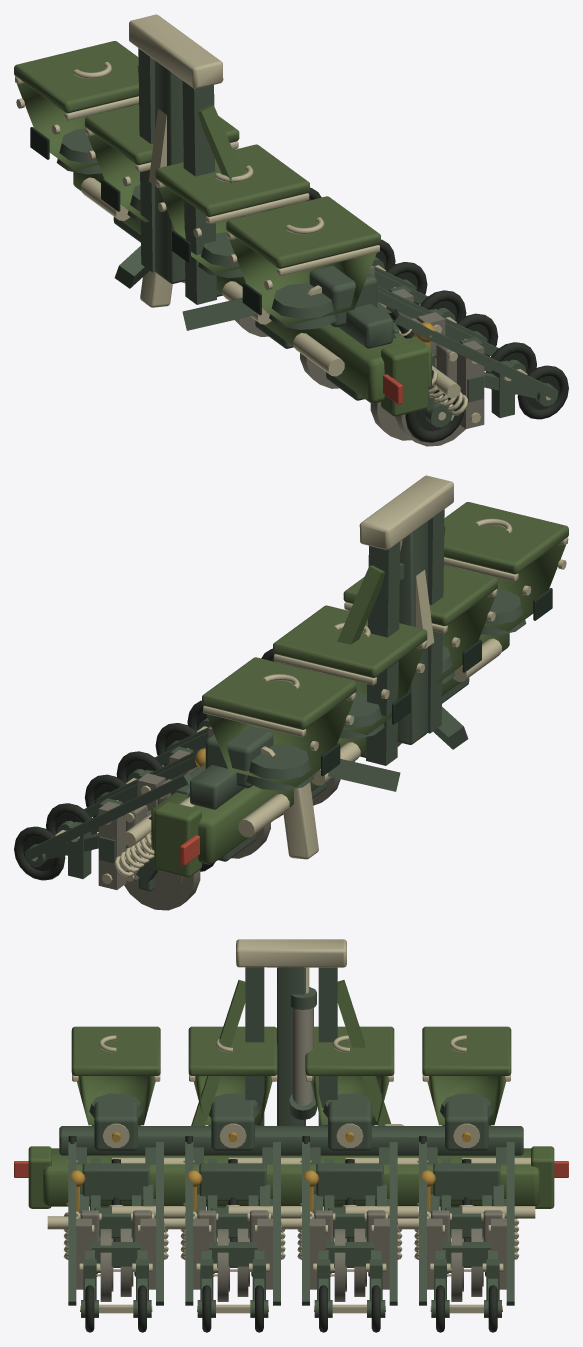
File: seeder.compact.m1.glb
3 views of the same model, one above another, from view 1: azimuth 30°, elevation 25°; view 2: azimuth 150°, elevation 25°; view 3: azimuth 270°, elevation 25° (orthographic). The views are drawn at different scales.
Parts seen in each view (by area): view 1: hopperLid04, hopperLid01, hopperLid03, tire (×6), toolbarBeam, hitchMastRight, hitchMastCap, hitchMastSpine, hopperBody04, rowFabricationRail04, hitchMastLeft, toolbarEndPlateRight (+24 smaller); view 2: hopperLid01, hopperLid04, hopperLid02, hitchMastLeft, toolbarBeam, hitchMastCap, hitchMastSpine, tire (×5), hopperBody01, rowFabricationRail01, hitchMastRight, toolbarEndPlateLeft (+24 smaller); view 3: toolbarBeam, toolbarRail, openerPlate (×8), hopperLid01, hopperLid04, hopperLid03, hopperLid02, hitchMastCap, hitchMastSpine, rowFabricationRail02, rowFabricationRail01, rowFabricationRail04 (+44 smaller).
Part boxes in pixels (x1,y1,x2,y2): hopperLid04: (226, 196, 380, 268); hopperLid01: (14, 41, 138, 113); hopperLid03: (155, 144, 309, 216); tire (×6): (386, 262, 568, 442); toolbarBeam: (73, 172, 431, 403); hitchMastRight: (182, 81, 216, 304); hitchMastCap: (129, 14, 223, 89); hitchMastSpine: (155, 60, 185, 283); hopperBody04: (229, 238, 376, 325); rowFabricationRail04: (377, 290, 558, 399); hitchMastLeft: (138, 48, 155, 272); toolbarEndPlateRight: (381, 340, 428, 416); hopperLid01: (202, 657, 356, 729); hopperLid04: (444, 502, 568, 574); hopperLid02: (273, 605, 427, 677); hitchMastLeft: (366, 542, 400, 765); toolbarBeam: (151, 633, 509, 864); hitchMastCap: (359, 475, 453, 550); hitchMastSpine: (397, 521, 427, 744); tire (×5): (14, 723, 196, 880); hopperBody01: (206, 699, 353, 786); rowFabricationRail01: (24, 755, 197, 860); hitchMastRight: (427, 509, 444, 733); toolbarEndPlateLeft: (154, 801, 201, 877); toolbarBeam: (43, 1148, 539, 1206); toolbarRail: (59, 1126, 523, 1155); openerPlate (×8): (100, 1228, 482, 1301); hopperLid01: (422, 1026, 511, 1075); hopperLid04: (71, 1026, 160, 1075); hopperLid03: (188, 1026, 277, 1075); hopperLid02: (305, 1026, 394, 1075); hitchMastCap: (236, 939, 346, 967); hitchMastSpine: (277, 967, 305, 1125); rowFabricationRail02: (302, 1142, 397, 1305); rowFabricationRail01: (419, 1142, 514, 1305); rowFabricationRail04: (68, 1142, 163, 1305).
Size of the model in its own units: 1.98 by 2.23 by 3.8.
